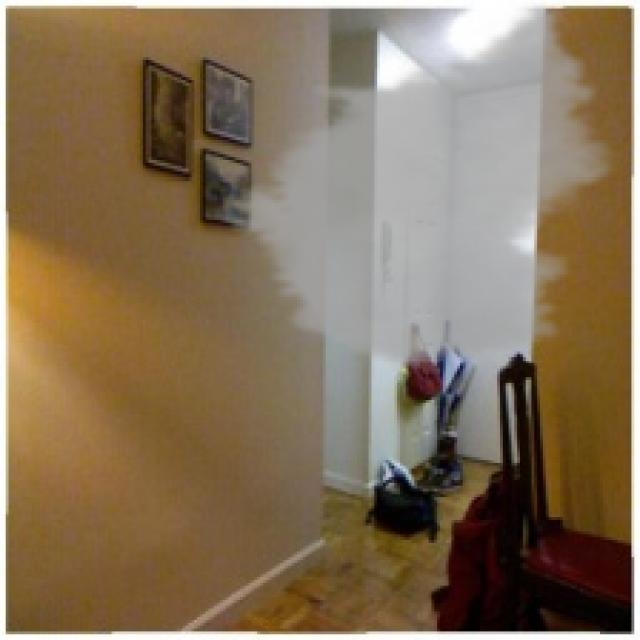smoke: (223, 3, 626, 371)
